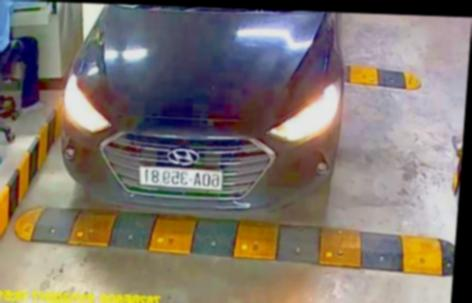License_Plate: (135, 163, 229, 192)
